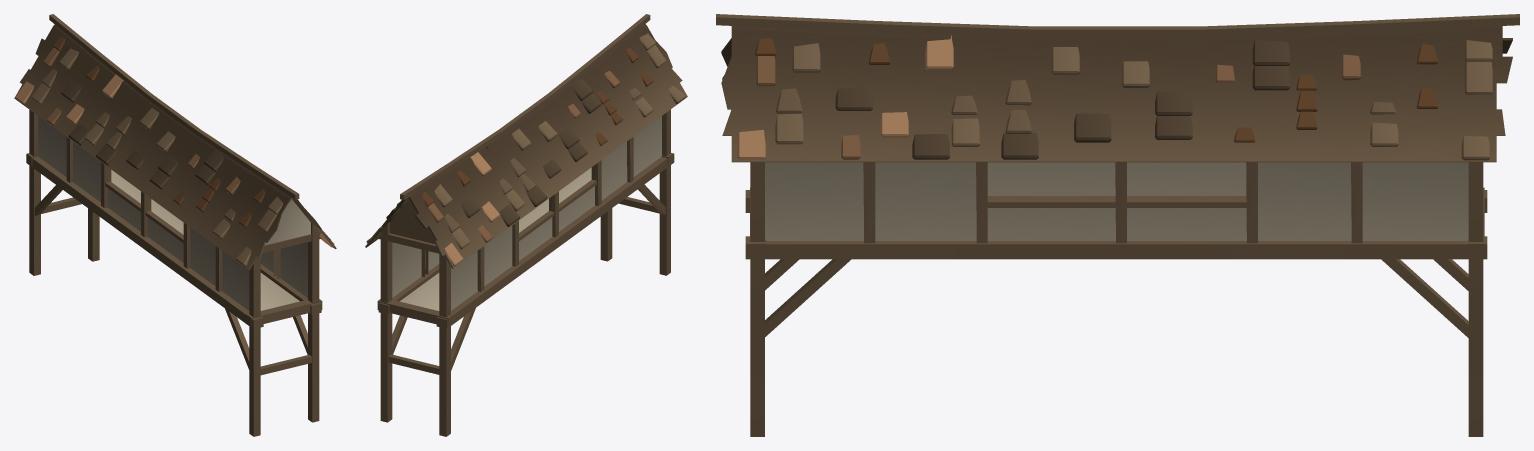
File: ZLP_Build_A_16.FBX
3 views of the same model, side by side, from view 1: azimuth 30°, elevation 25°; view 2: azimuth 150°, elevation 25°; view 3: azimuth 270°, elevation 25° (orthographic). The views are drawn at different scales.
Visible parts, largest first — view 1: ZLP_Build_A_16; view 2: ZLP_Build_A_16; view 3: ZLP_Build_A_16.
Part boxes in pixels (x1,y1,x2,y2): ZLP_Build_A_16: (14, 14, 336, 436); ZLP_Build_A_16: (365, 14, 687, 436); ZLP_Build_A_16: (716, 14, 1519, 436).
Bounding box in the file's own units: 207 × 526 × 969.
